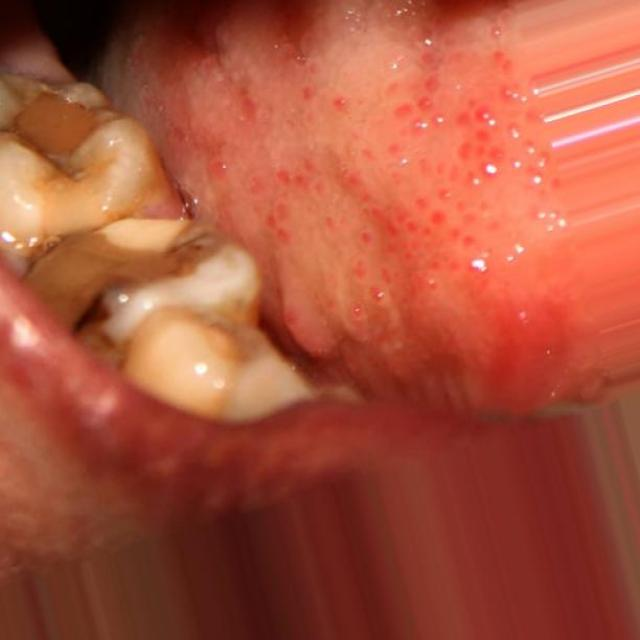caries: (26, 197, 260, 339), (0, 64, 151, 215)
